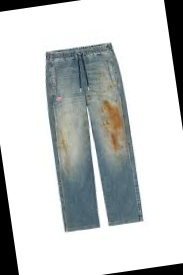earth: (101, 99, 127, 153)
